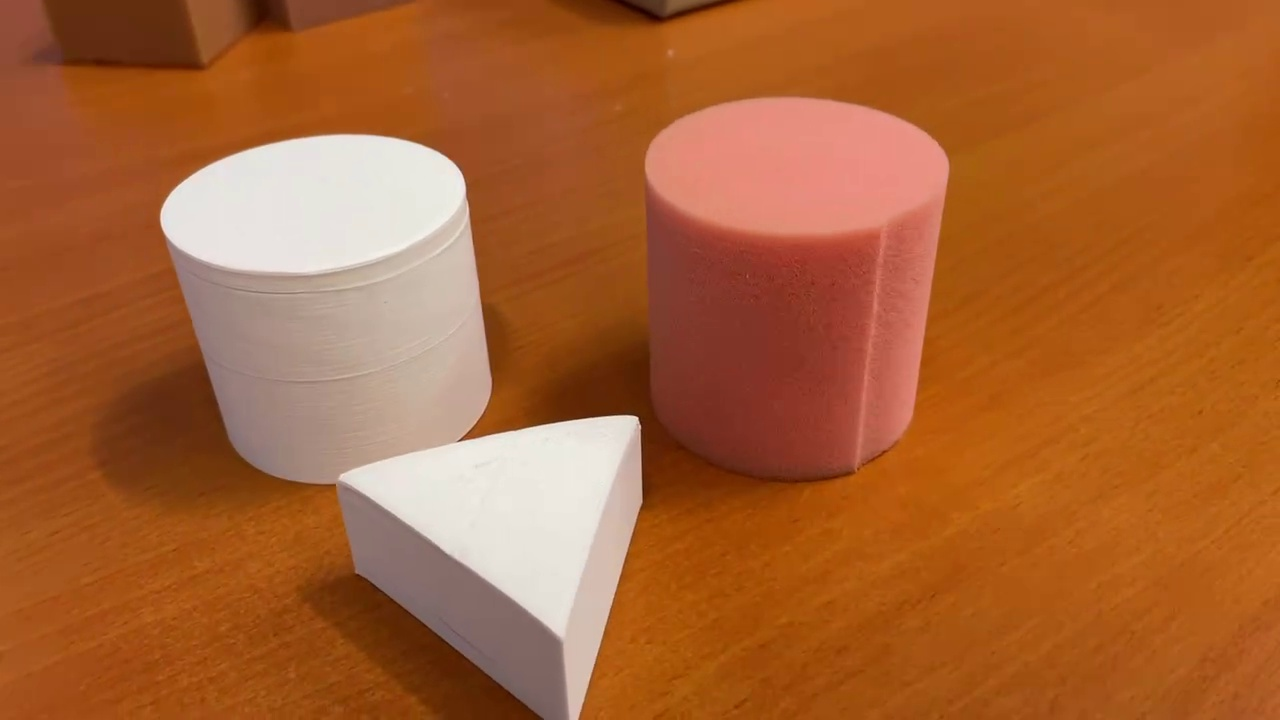Cylinder: (157, 130, 500, 494), (639, 89, 948, 484)
Triangle_short: (331, 410, 652, 716)
